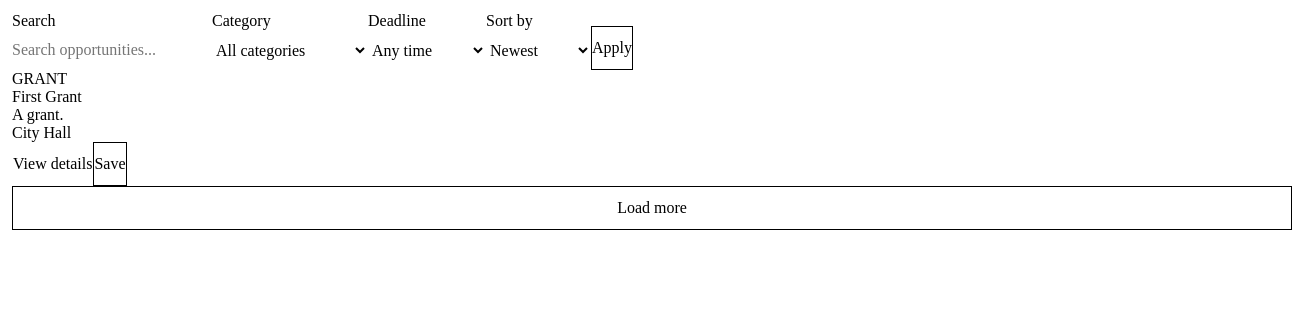
Test: SearchTab › shows a "Load more" control only when another page exists, and appends on click
Expected: the heading "First Grant" is shown, [12,88,82,105]
Click the button "Load more".
click(652, 208)  # box [12,186,1292,230]
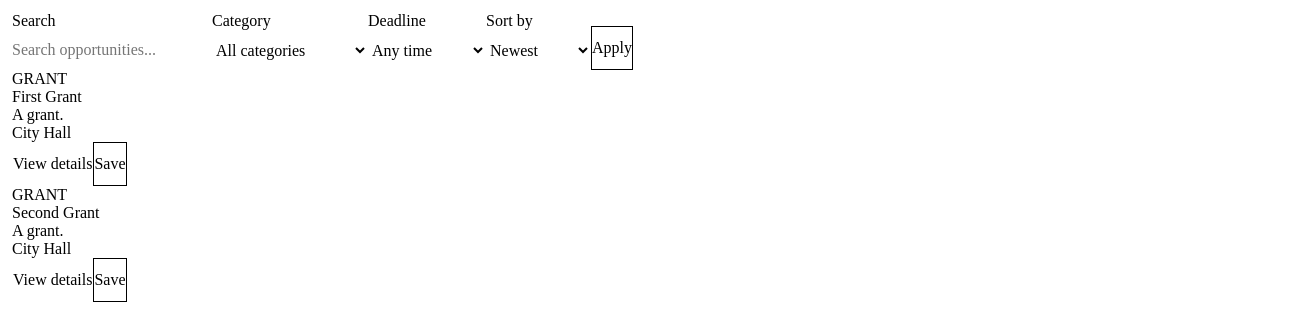
Expected: the heading "First Grant" is shown, [12,88,82,105]
Expected: the heading "Second Grant" is shown, [12,204,100,221]
Expected: the button "Load more" is gone
